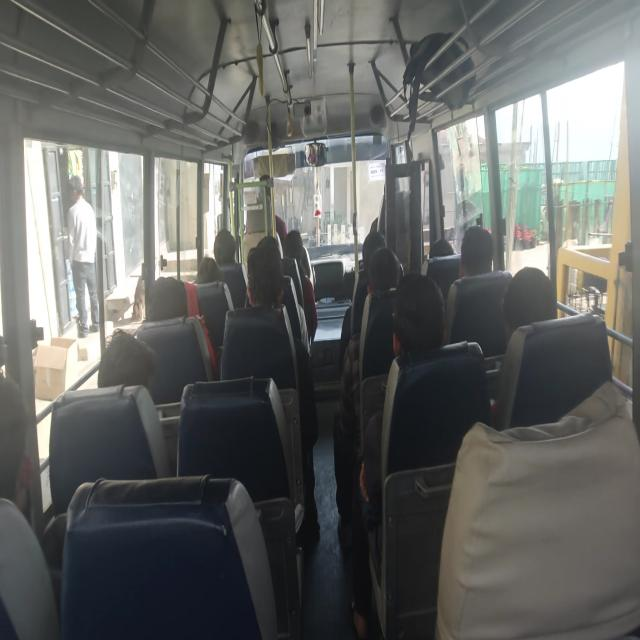person: (0, 378, 62, 508), (86, 326, 166, 414), (502, 282, 578, 370), (392, 279, 449, 365), (249, 247, 282, 326), (457, 224, 497, 284), (367, 245, 405, 302), (206, 226, 244, 277), (154, 279, 192, 326), (431, 227, 466, 264), (200, 256, 228, 301), (362, 226, 391, 265), (279, 232, 306, 267), (258, 236, 279, 260)
